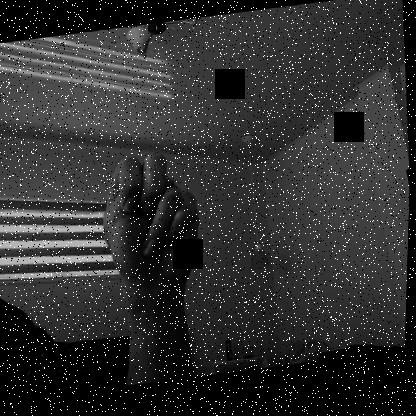N: (93, 146, 211, 302)
